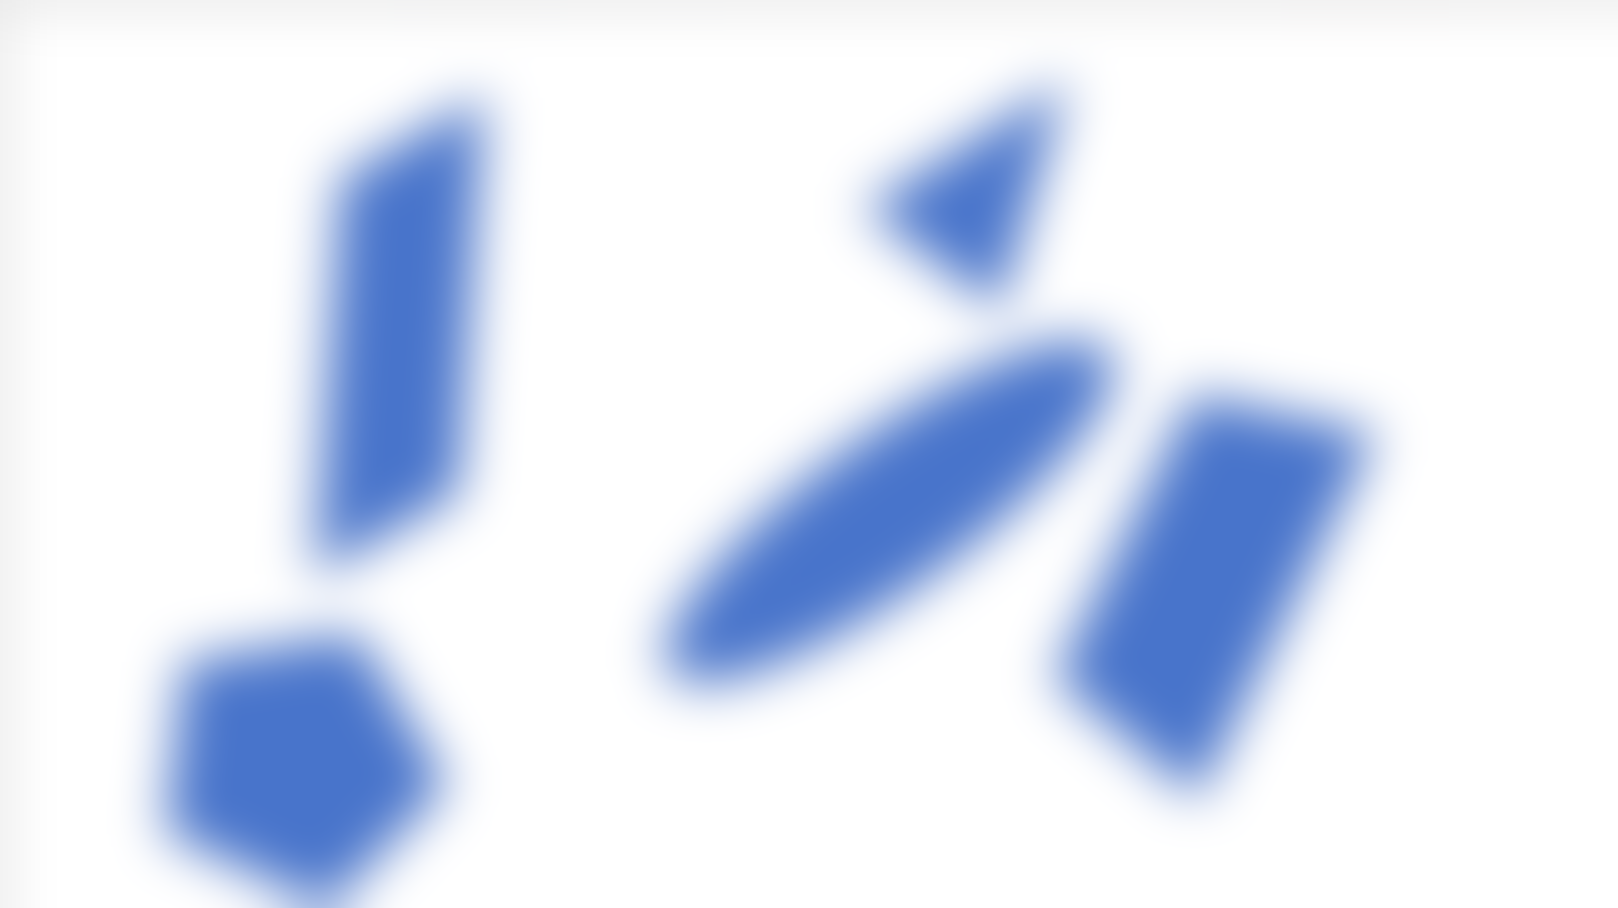circle: (642, 327, 1129, 706)
parallelogram: (301, 84, 480, 579)
pentagon: (139, 607, 483, 908)
trapezium: (1070, 371, 1365, 816)
triangle: (849, 78, 1110, 305)
